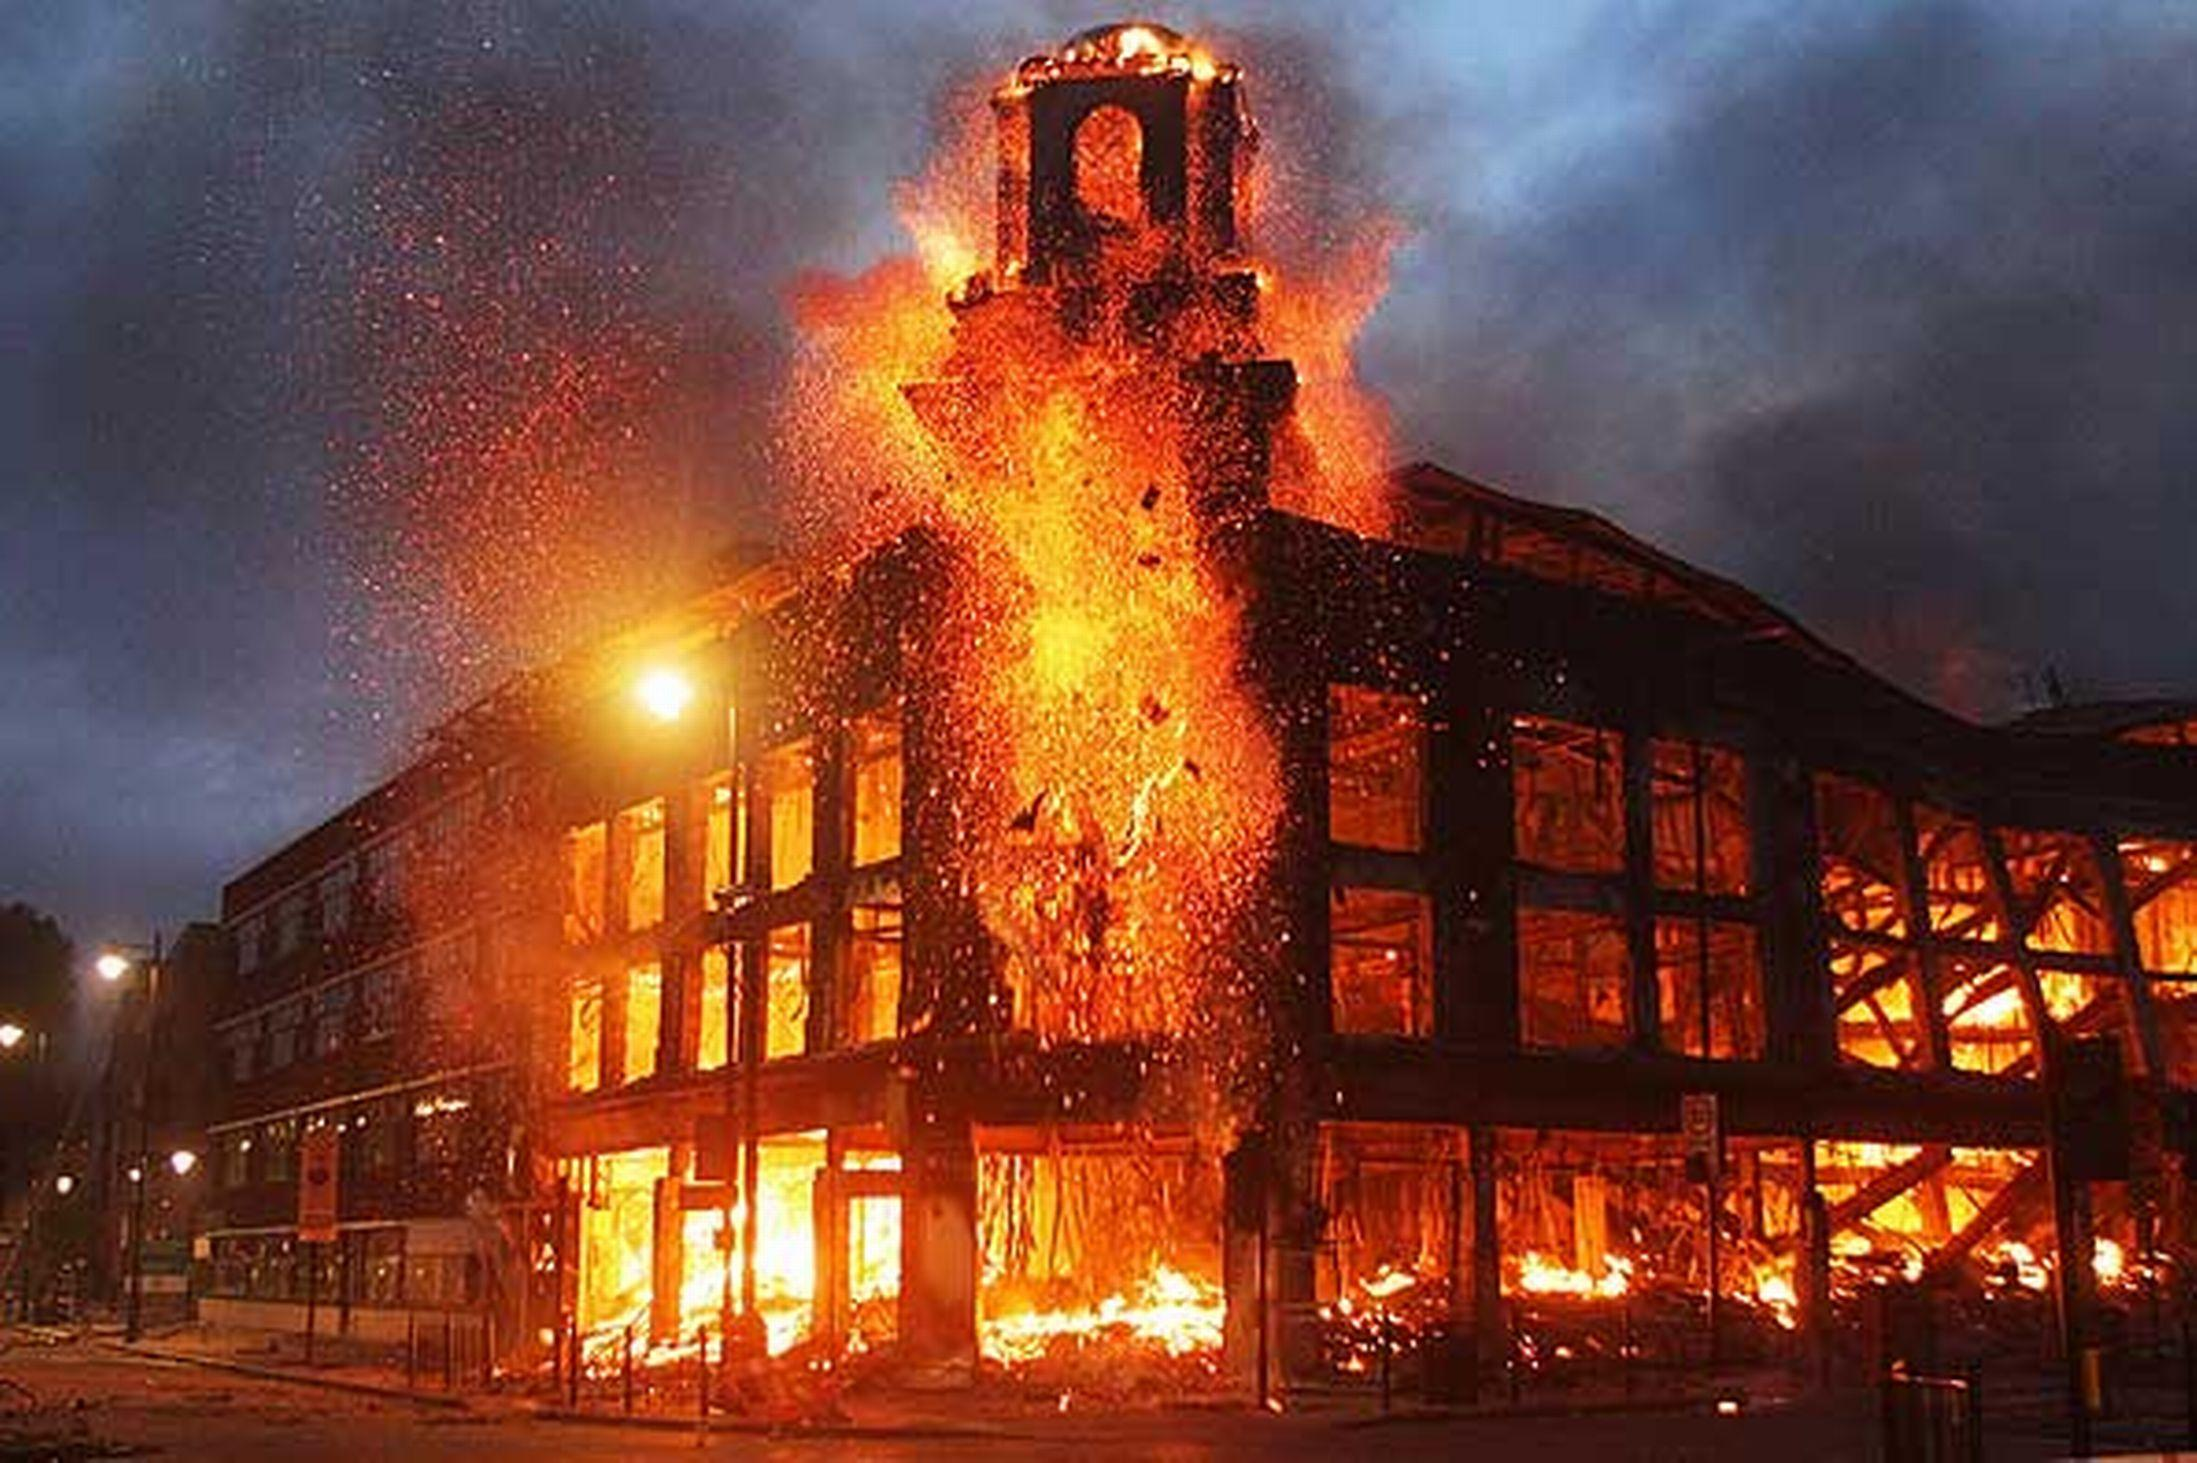Fire: (547, 656, 2197, 1463), (797, 41, 1428, 651)
